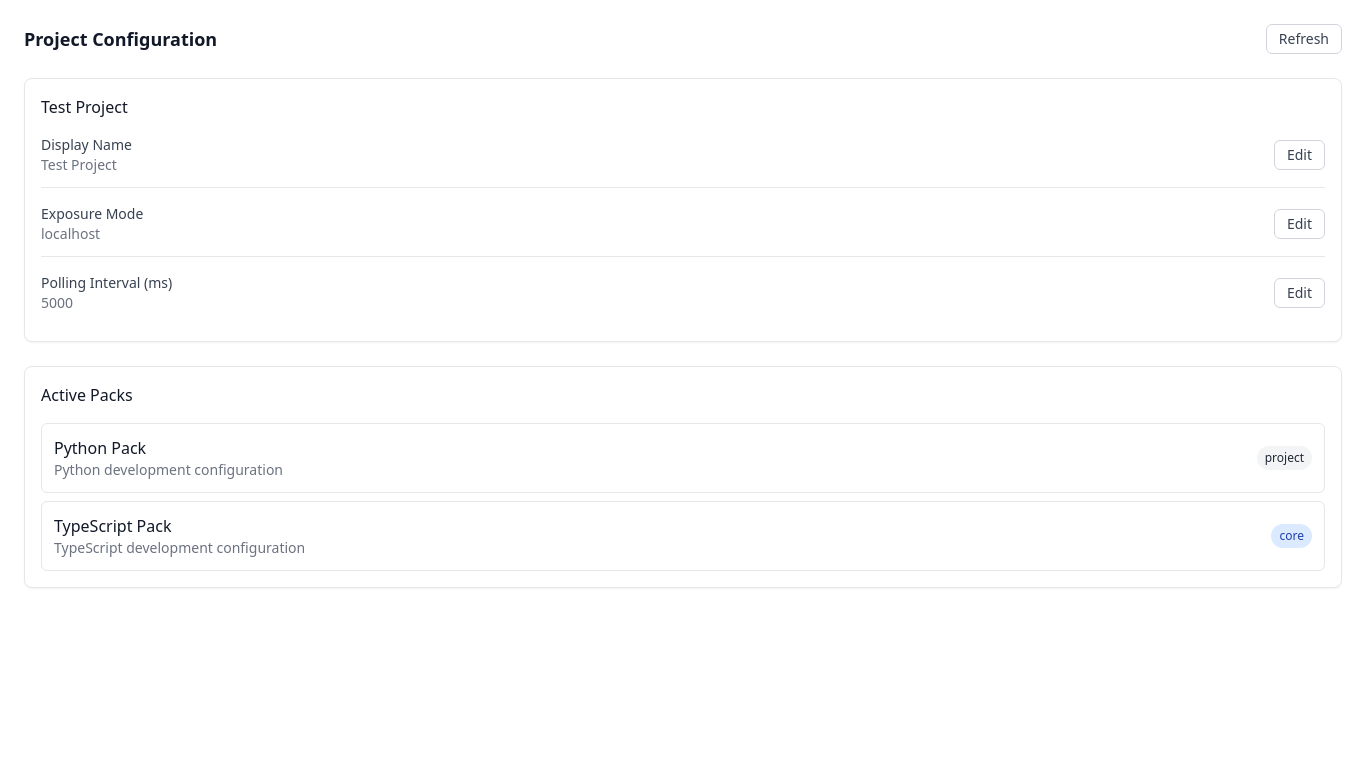
Test: ConfigPanel › Config Editing › shows preview dialog when editing a field
This screenshot has width=1366, height=768.
Click the button "Edit" in the row of "Display Name": (1299, 155) [1274,140,1325,170]
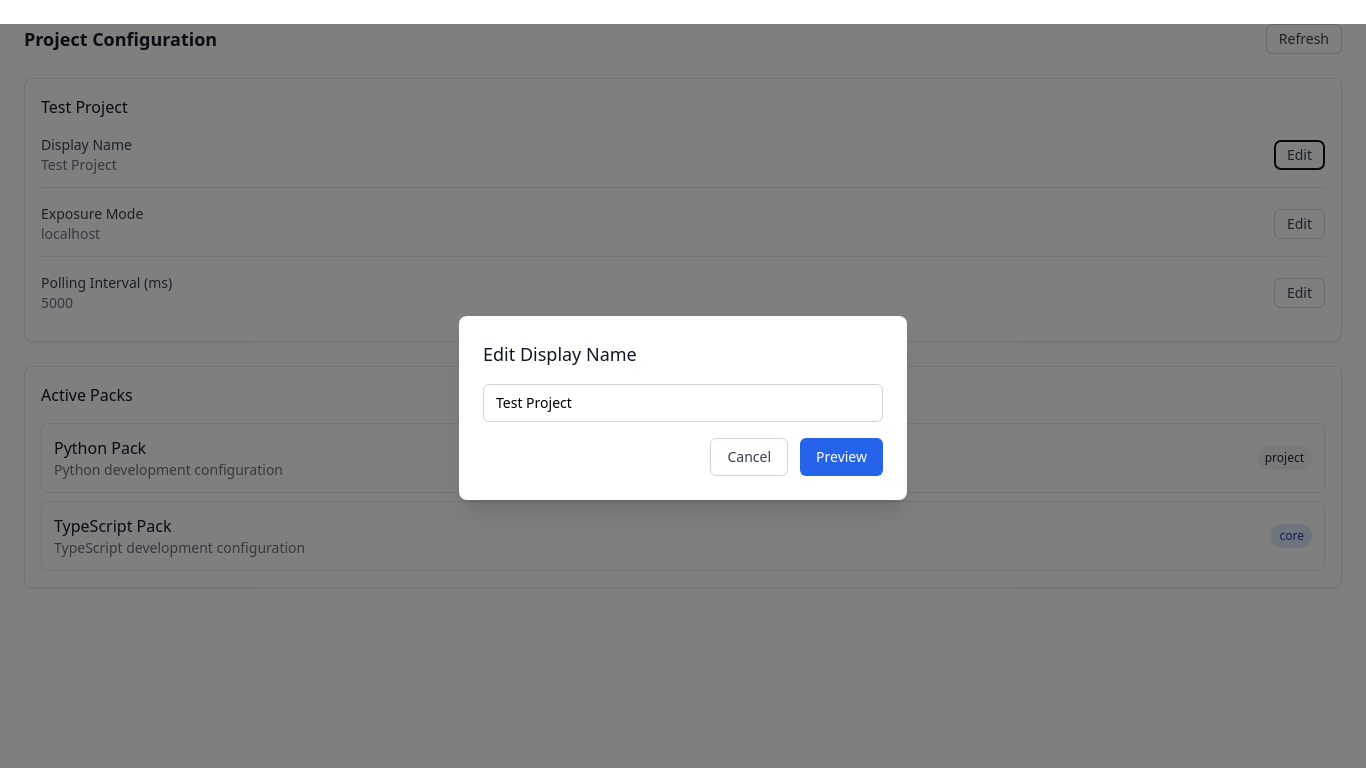
Expected: the dialog is shown, [459,316,907,500]
